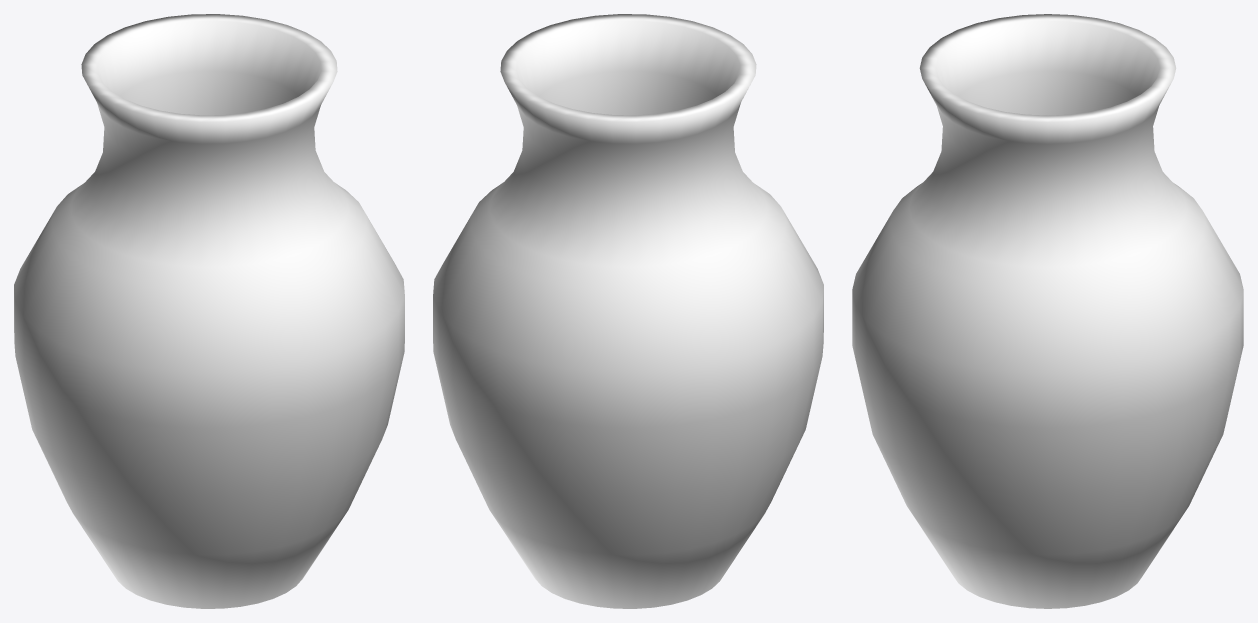
File: vase.fbx
The picture shows the model from 3 angles, left to right: view 1: azimuth 30°, elevation 25°; view 2: azimuth 150°, elevation 25°; view 3: azimuth 270°, elevation 25°; orthographic projection.
Visible parts, largest first — view 1: Vase; view 2: Vase; view 3: Vase.
Boxes of the visible parts, <box> form: Vase: <box>14,14,404,608</box>; Vase: <box>433,14,823,608</box>; Vase: <box>852,14,1243,608</box>.
Bounding box in the file's own units: 29.01 × 40.86 × 29.01.
